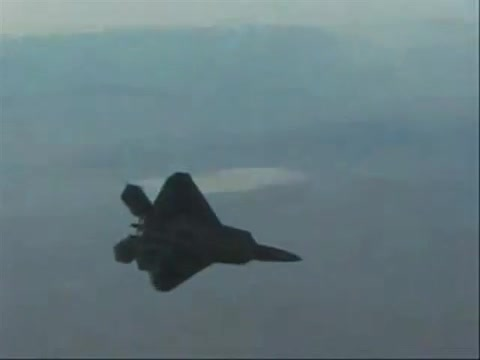aeroplane: (114, 172, 305, 293)
